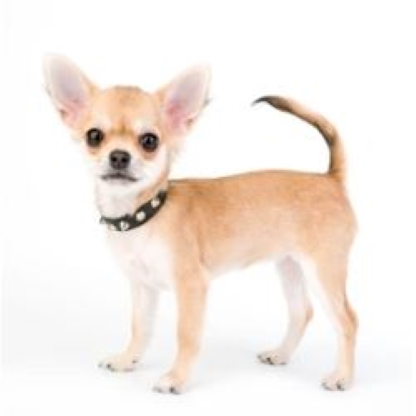chihuahua: (39, 47, 363, 396)
